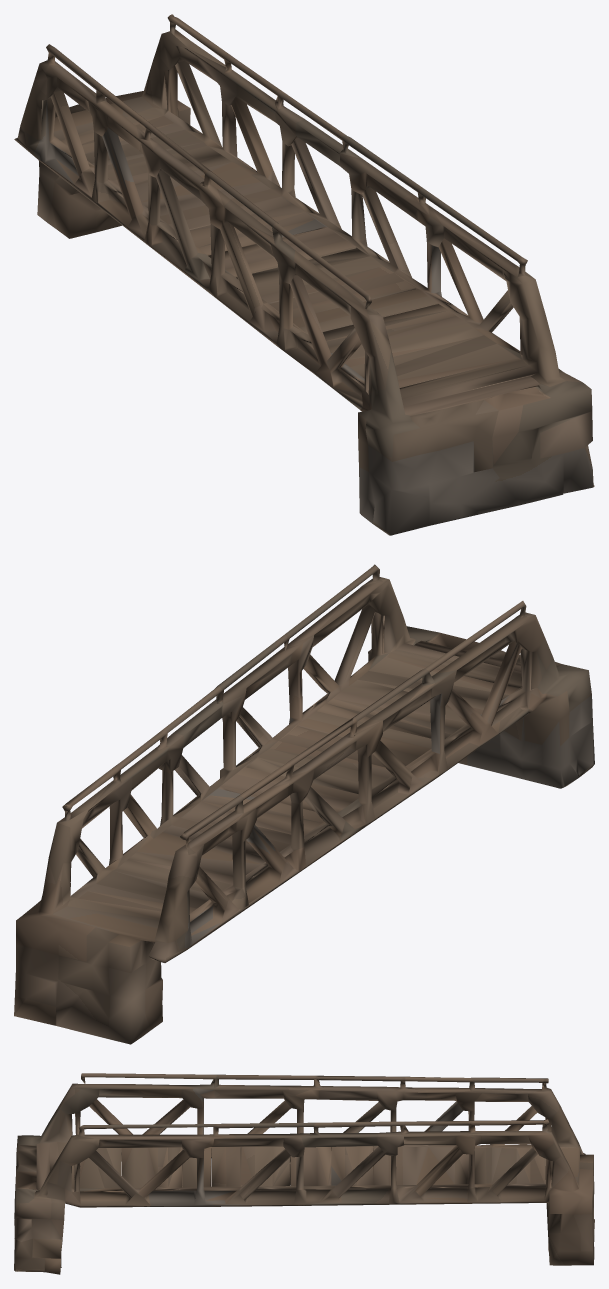
File: bridge_truss.glb
3 renders of one model, top to bottom at view 1: azimuth 30°, elevation 25°; view 2: azimuth 150°, elevation 25°; view 3: azimuth 270°, elevation 25°, orthographic. The views are drawn at different scales.
Parts seen in each view (by area): view 1: LO.001; view 2: LO.001; view 3: LO.001.
Boxes of the visible parts, x1=… form: LO.001: x1=14, y1=14, x2=594, y2=535; LO.001: x1=14, y1=564, x2=594, y2=1044; LO.001: x1=14, y1=1073, x2=594, y2=1274.
Bounding box in the file's own units: 3.4 × 3.23 × 12.
Materials: 1 (1 with a texture image).
